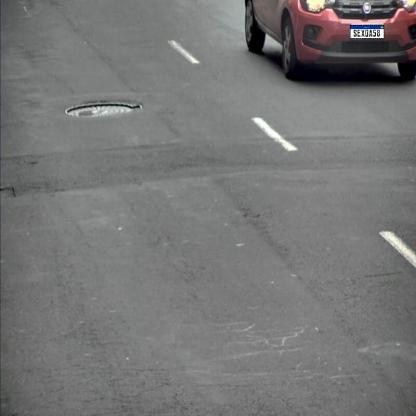PlacaM: (350, 25, 384, 39)
